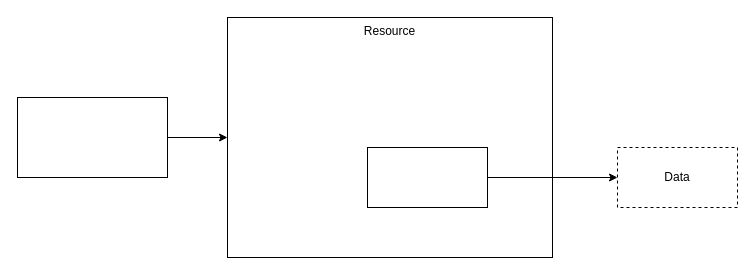
Image size: 755x275. Some labels were removed from this diagram. The shapes that lost their labels are listed below. From the top down, each one's centre as x and y in pixels, then its label:
point (92, 137): Consumer
point (427, 177): Flyweight
